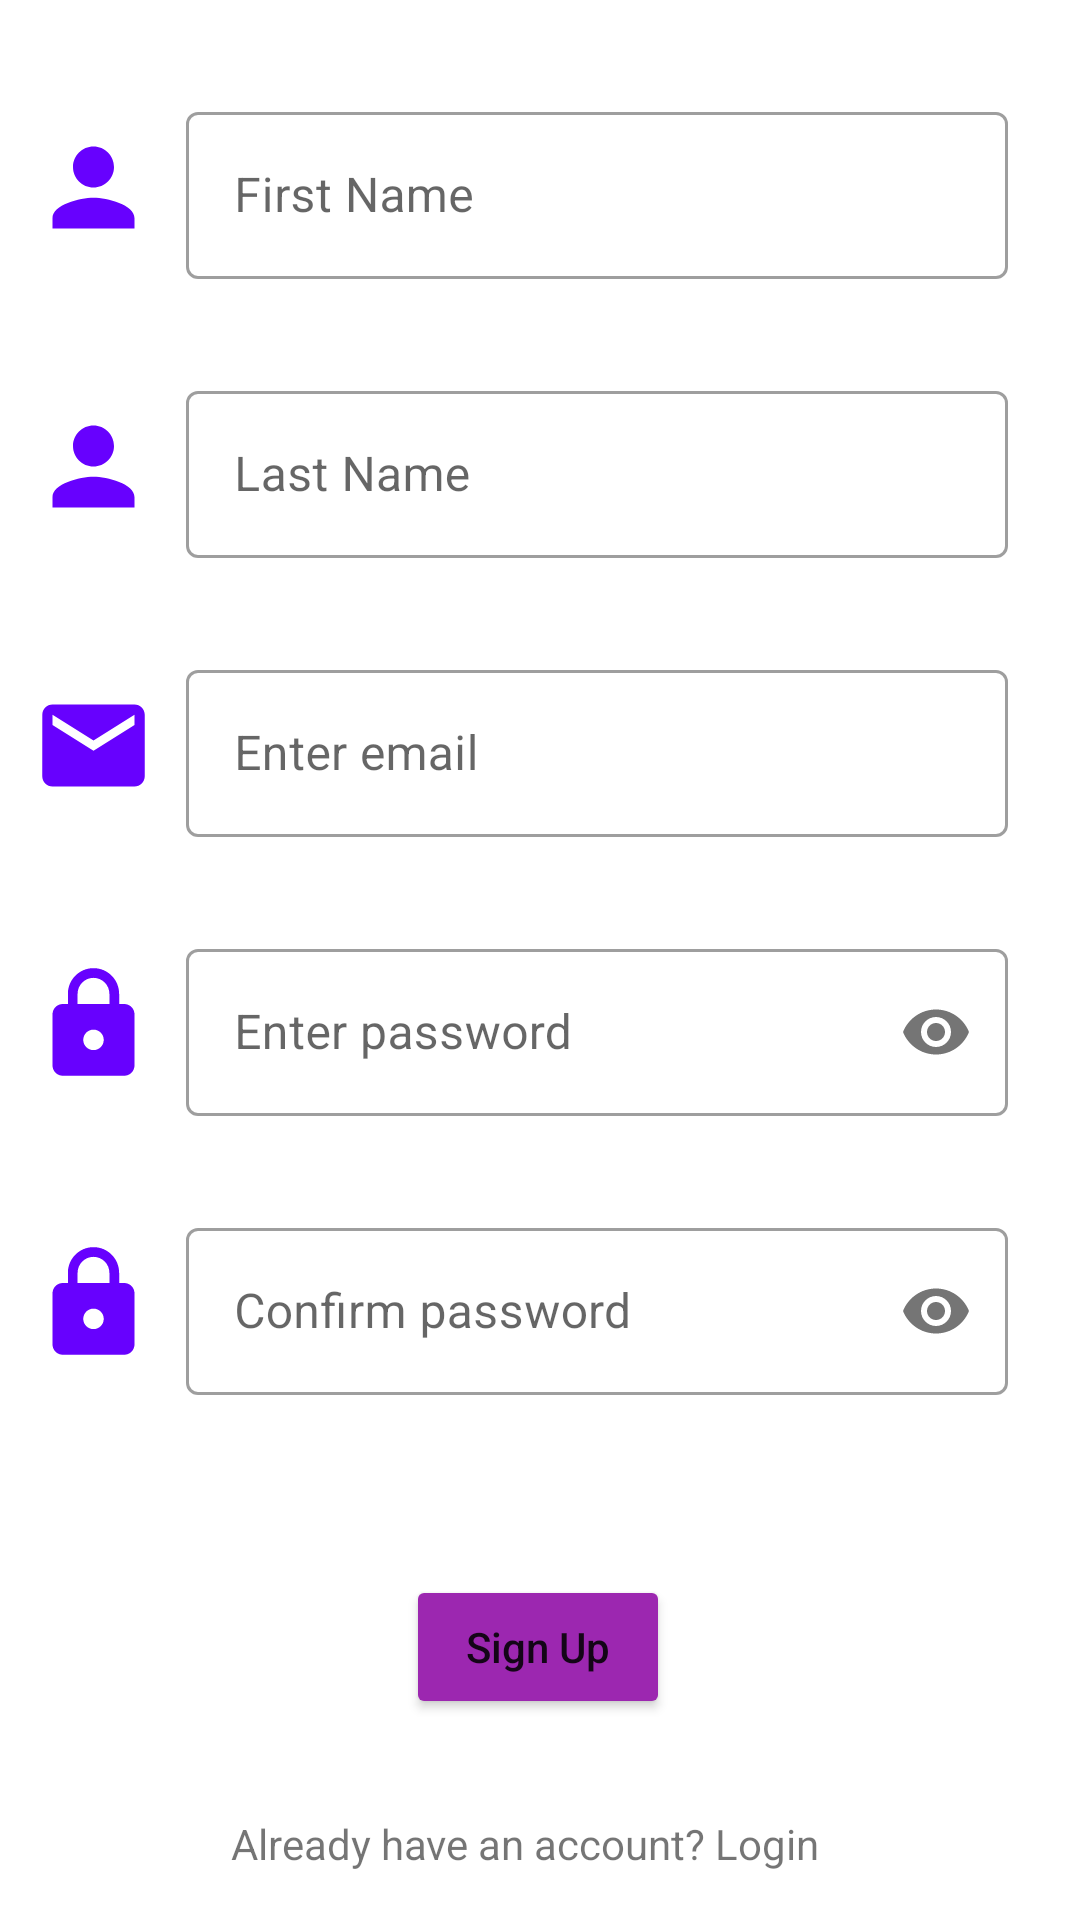

Where to tap for icons on this 1080 x 1920 app screen, as (x=x, y=y):
emailicon email: (x=93, y=745)
password lock: (x=93, y=1022), (x=93, y=1301)
